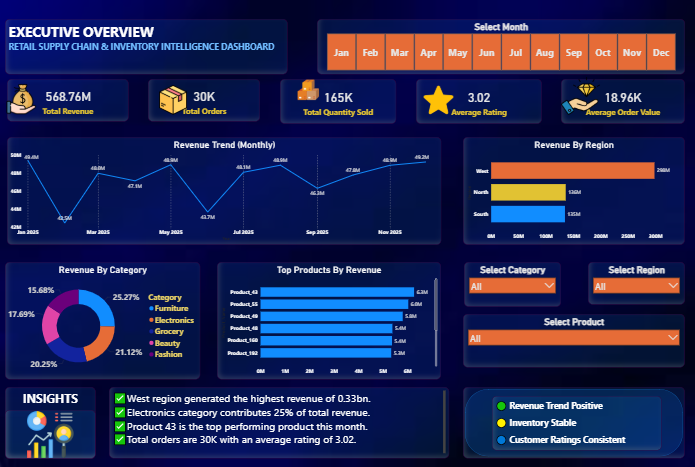

What the dashboard file says about the page in this screenshot:
{"tool":"powerbi","page":{"name":"Executive Overview","canvas":[2500,1500],"ordinal":0},"visuals":[{"type":"card","fields":{"Values":["MeasureTable.Total Orders"]},"box":[547.5,260,350,133.3],"z":0},{"type":"card","fields":{"Values":["MeasureTable.Total Revenue"]},"box":[26.7,260,380,133.3],"z":1000},{"type":"card","fields":{"Values":["MeasureTable.Total Quantity Sold"]},"box":[1038.3,260,363.3,140],"z":2000},{"type":"card","fields":{"Values":["MeasureTable.Average Order Value"]},"box":[2076.7,260,386.7,140],"z":3000},{"type":"textbox","box":[23.3,73.3,883.3,173.3],"z":4000},{"type":"card","fields":{"Values":["MeasureTable.Average Rating"]},"box":[1542.5,260,393.3,140],"z":5000},{"type":"lineChart","title":"Revenue Trend (Monthly)","fields":{"Y":["Sum(Sales_data.Revenue)"],"Category":["Date Table.Date.Variation.Date Hierarchy.Year","Date Table.Date.Variation.Date Hierarchy.Month"]},"box":[26.7,440,1356.7,336.7],"z":6000},{"type":"clusteredBarChart","title":"Revenue By Region","fields":{"Category":["Store_data.Region"],"Y":["MeasureTable.Total Revenue"]},"box":[1453.3,440,1010,336.7],"z":7000},{"type":"donutChart","title":"Revenue By Category","fields":{"Category":["Product_master.Category"],"Y":["MeasureTable.Total Revenue"]},"box":[23.3,830,610,366.7],"z":8000},{"type":"clusteredBarChart","title":"Top Products By Revenue","fields":{"Category":["Product_master.Product_Name"],"Y":["MeasureTable.Total Revenue"]},"box":[683.3,830,700,366.7],"z":9000},{"type":"slicer","title":"Select Month","fields":{"Values":["Date Table.Month"]},"box":[996.7,73.3,1466.7,173.3],"z":10000},{"type":"slicer","title":"Select Region","fields":{"Values":["Store_data.Region"]},"box":[2023.3,830,440,133.3],"z":11000},{"type":"slicer","title":"Select  Product","fields":{"Values":["Product_master.Category"]},"box":[1453.3,993.3,1010,166.7],"z":12000},{"type":"slicer","title":"Select Category","fields":{"Values":["Store_data.Store_Type"]},"box":[1456.7,830,520,140],"z":13000},{"type":"textbox","box":[346.7,1223.3,1063.3,223.3],"z":14000},{"type":"shape","box":[1453.3,1223.3,1010,223.3],"z":15000},{"type":"textbox","box":[1543.3,1250,816.7,170],"z":16000},{"type":"image","box":[25,270,95,107.5],"z":17000},{"type":"image","box":[556.7,270,106.7,93.3],"z":18000},{"type":"image","box":[1033.3,276.7,126.7,66.7],"z":19000},{"type":"image","box":[1543.3,276.7,153.3,93.3],"z":20000},{"type":"image","box":[2076.7,240,153.3,130],"z":21000},{"type":"textbox","box":[23.3,1223.3,283.3,223.3],"z":22000},{"type":"image","box":[23.3,1293.3,283.3,153.3],"z":23000}]}

Visuals, with their boxes on the page's 2500x1500 design canvas (x1, y1, x2, y2). These are canvas units, not pixel positions in the 695x467 screenshot, which may show the page scaled, cropped or inside an application window:
card - MeasureTable.Total Orders: Rect(548, 260, 898, 393)
card - MeasureTable.Total Revenue: Rect(27, 260, 407, 393)
card - MeasureTable.Total Quantity Sold: Rect(1038, 260, 1402, 400)
card - MeasureTable.Average Order Value: Rect(2077, 260, 2463, 400)
textbox: Rect(23, 73, 907, 247)
card - MeasureTable.Average Rating: Rect(1542, 260, 1936, 400)
"Revenue Trend (Monthly)" lineChart: Rect(27, 440, 1383, 777)
"Revenue By Region" clusteredBarChart: Rect(1453, 440, 2463, 777)
"Revenue By Category" donutChart: Rect(23, 830, 633, 1197)
"Top Products By Revenue" clusteredBarChart: Rect(683, 830, 1383, 1197)
"Select Month" slicer: Rect(997, 73, 2463, 247)
"Select Region" slicer: Rect(2023, 830, 2463, 963)
"Select  Product" slicer: Rect(1453, 993, 2463, 1160)
"Select Category" slicer: Rect(1457, 830, 1977, 970)
textbox: Rect(347, 1223, 1410, 1447)
shape: Rect(1453, 1223, 2463, 1447)
textbox: Rect(1543, 1250, 2360, 1420)
image: Rect(25, 270, 120, 378)
image: Rect(557, 270, 663, 363)
image: Rect(1033, 277, 1160, 343)
image: Rect(1543, 277, 1697, 370)
image: Rect(2077, 240, 2230, 370)
textbox: Rect(23, 1223, 307, 1447)
image: Rect(23, 1293, 307, 1447)
